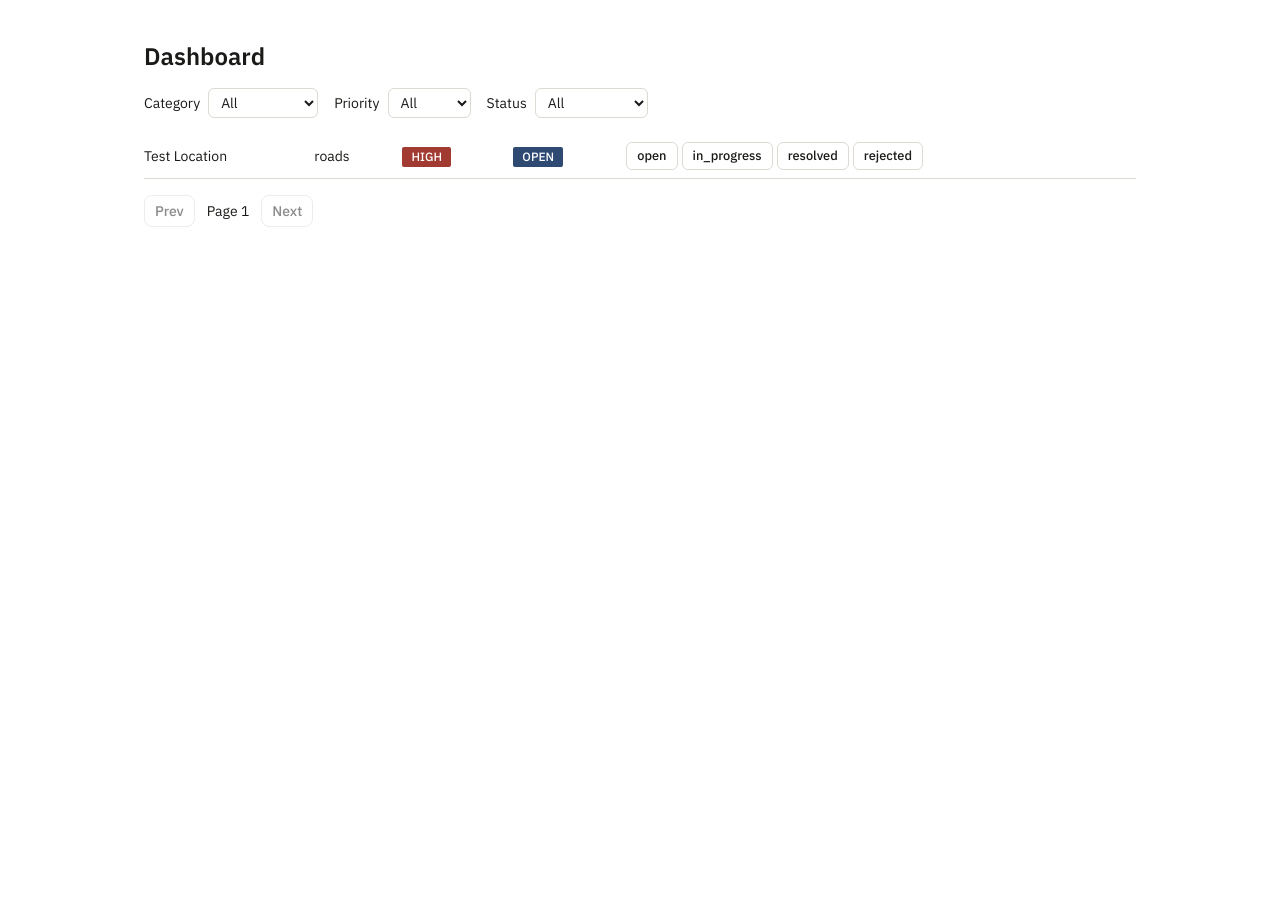
Test: Dashboard view › closes the detail modal when the close button is clicked
expect the cell with test id "status" reads "open": met, box [522,148,554,164]
Click the text "Test Location" at (229, 156), box [144,134,314,178]
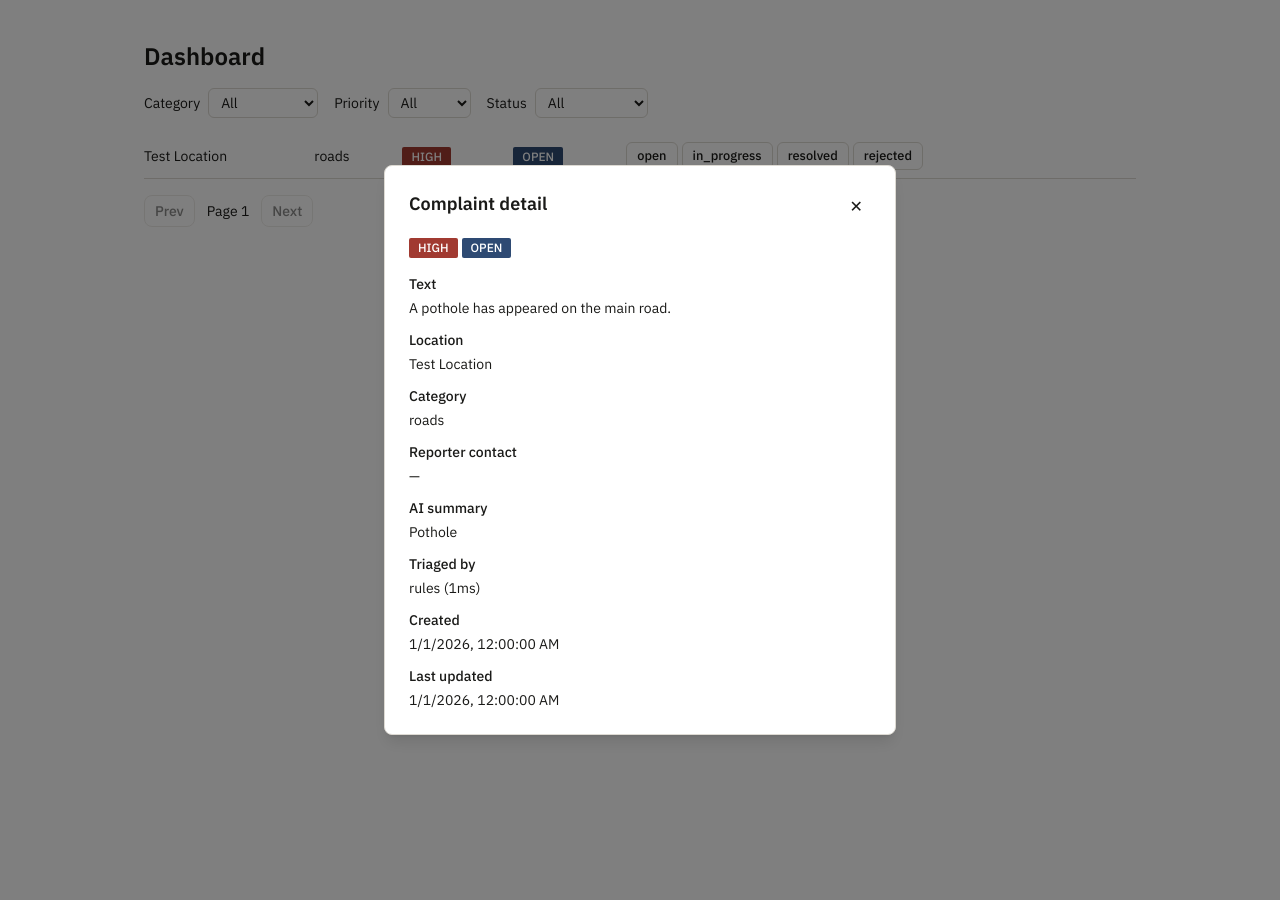
Click the button named "Close" at (856, 206), box [842,190,871,222]
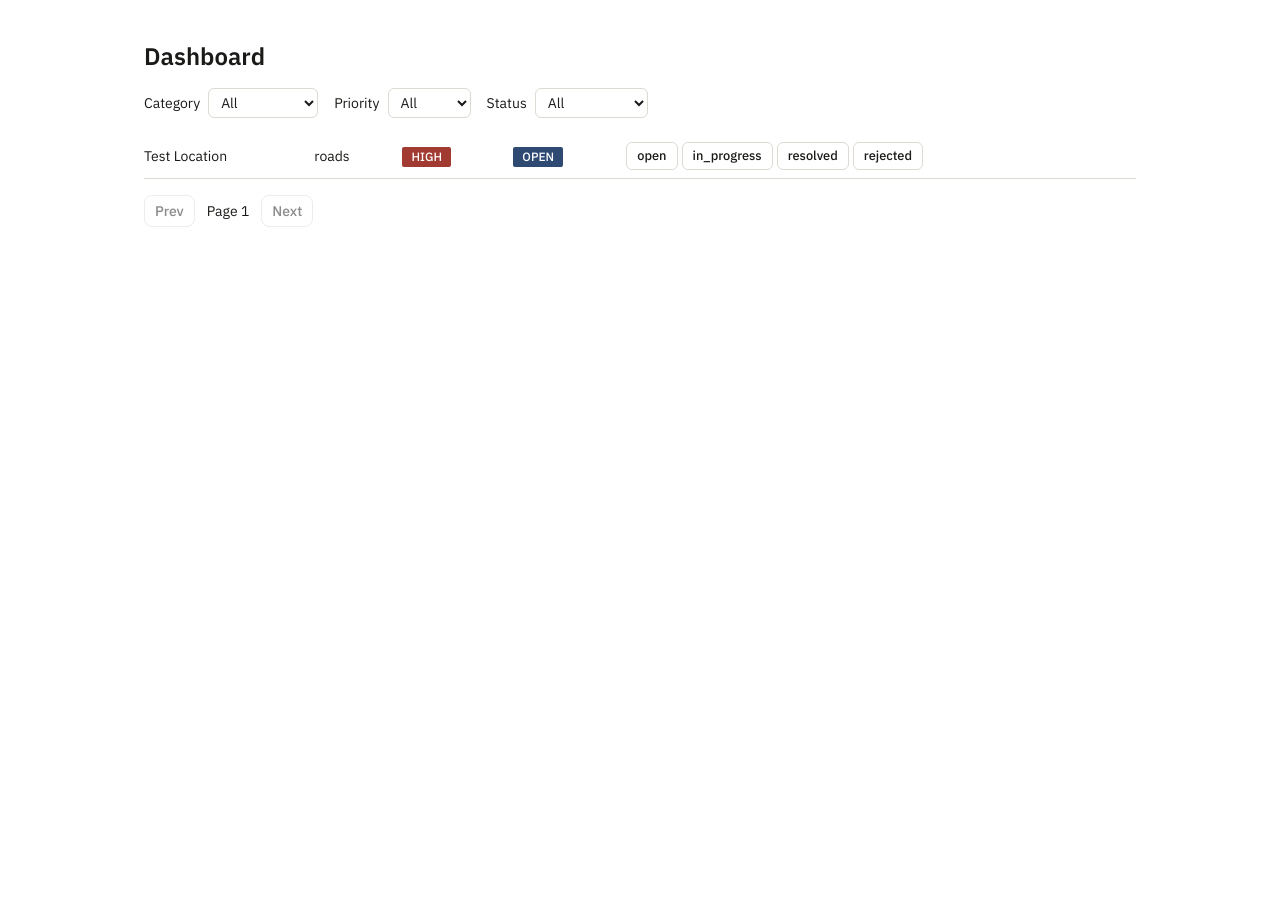
expect the dialog is gone: met
